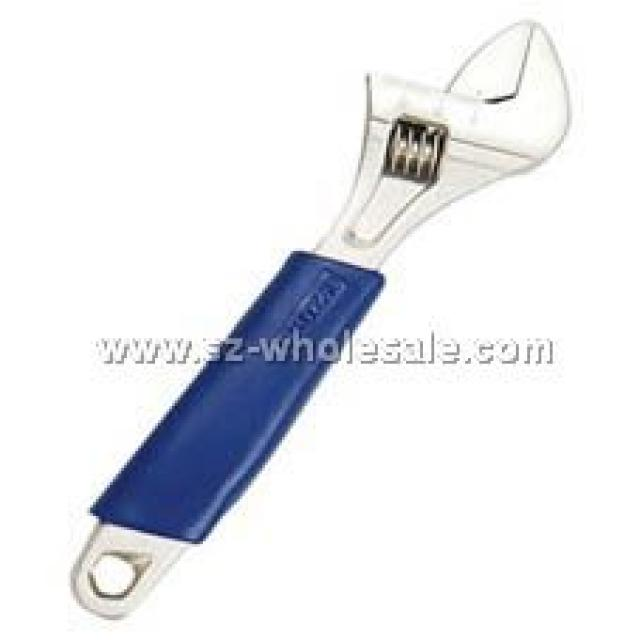wrench: (245, 8, 616, 352)
